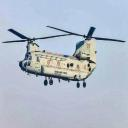helicopter: (3, 28, 127, 89)
